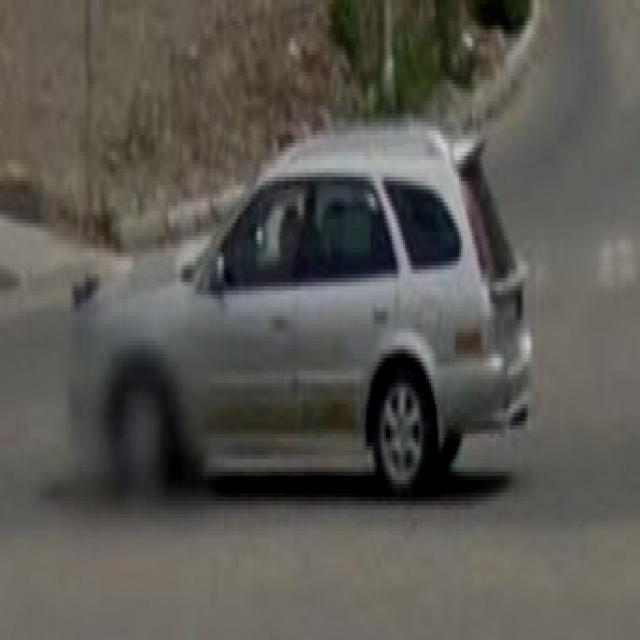car: (80, 171, 540, 499)
